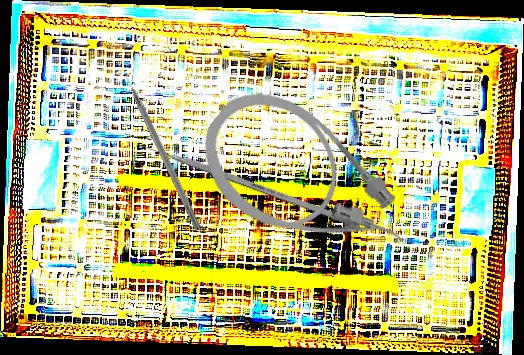Cannula: (180, 69, 429, 302)
Hook Surgical: (120, 65, 204, 232)
Pusher: (128, 137, 346, 223)
